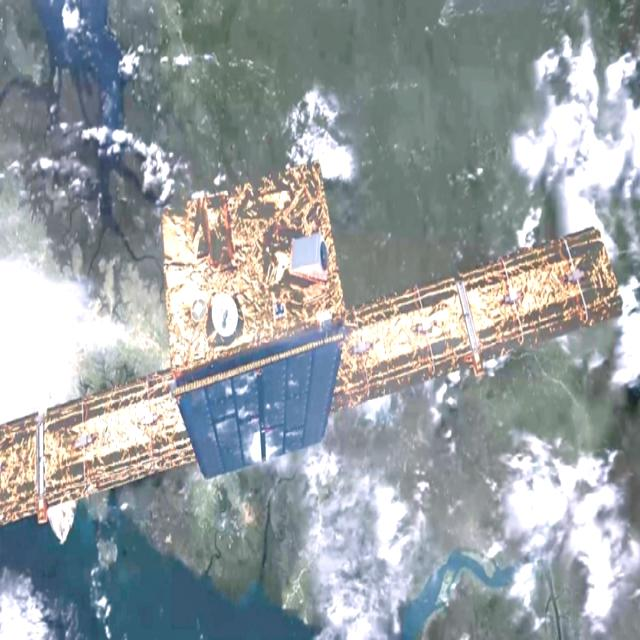medium_debris: (0, 139, 619, 528)
